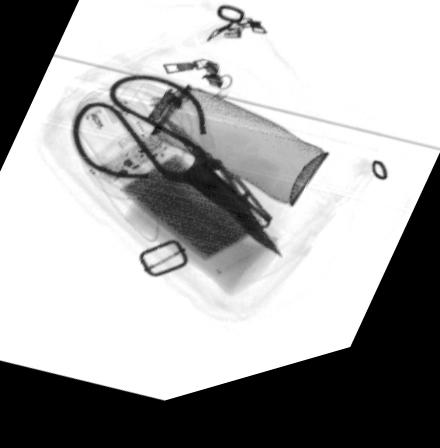Knife: (163, 120, 275, 248)
Powerbank: (88, 126, 282, 288)
Scissors: (69, 81, 289, 279)
Sprayer: (111, 76, 328, 225)
